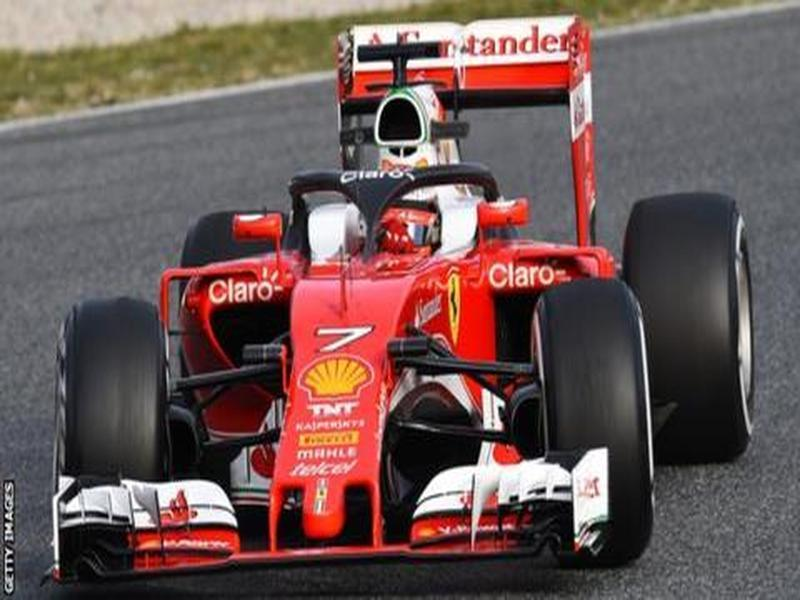f1: (53, 9, 755, 589)
